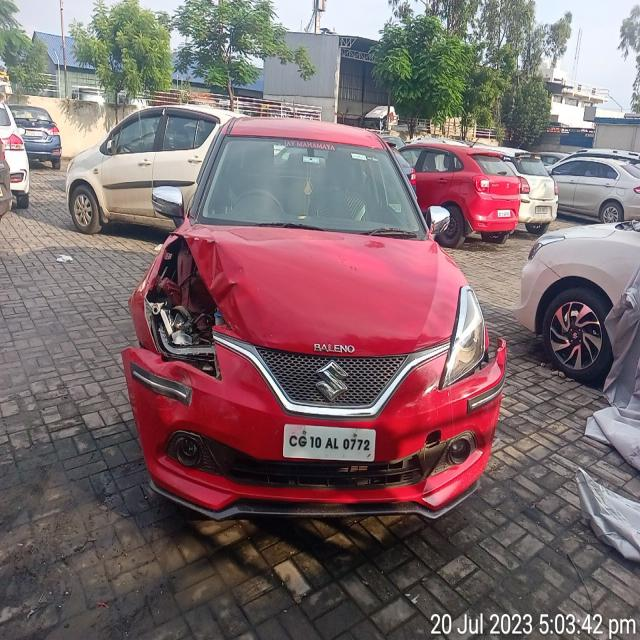damage: (175, 224, 234, 330), (144, 307, 221, 361), (118, 339, 161, 387), (482, 336, 515, 395)
